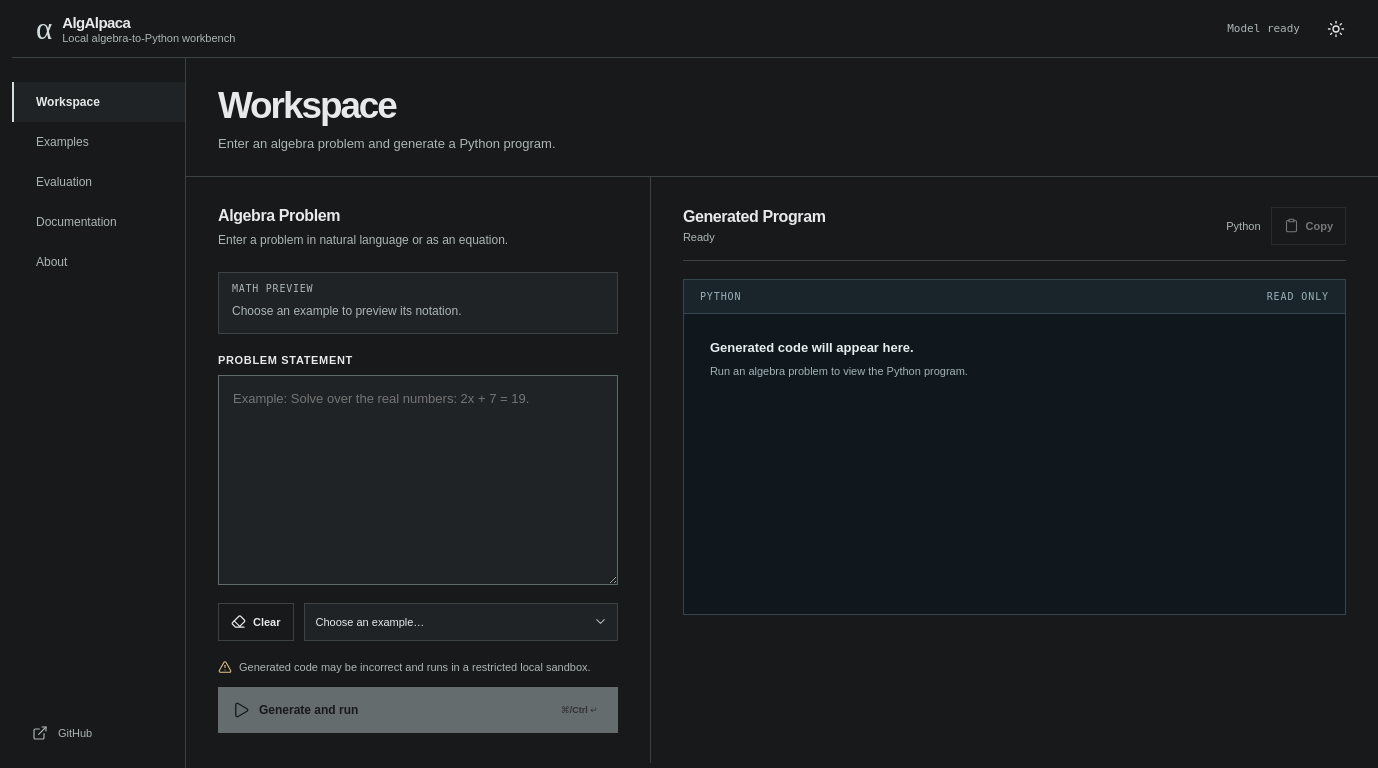
Scenario: branding, routes, and copy › keeps every verified evaluation value and narrow interpretation
Expected: the text "Workspace" is shown, [36,95,100,109]
Click the button "Evaluation" at (98,182), box [12,162,185,202]
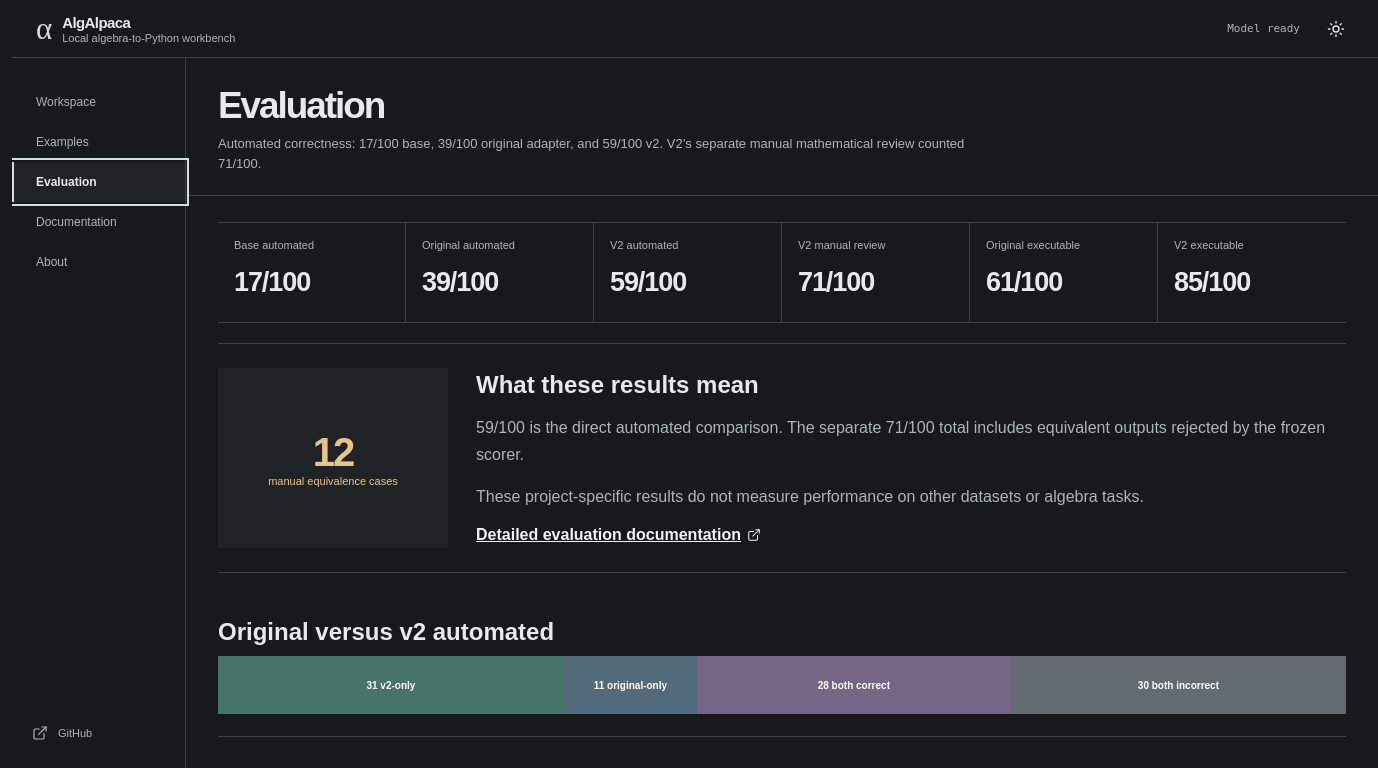
Now the text "17/100" is shown, box [234,267,310,297]
Now the text "39/100" is shown, box [422,267,498,297]
Now the text "59/100" is shown, box [610,267,686,297]
